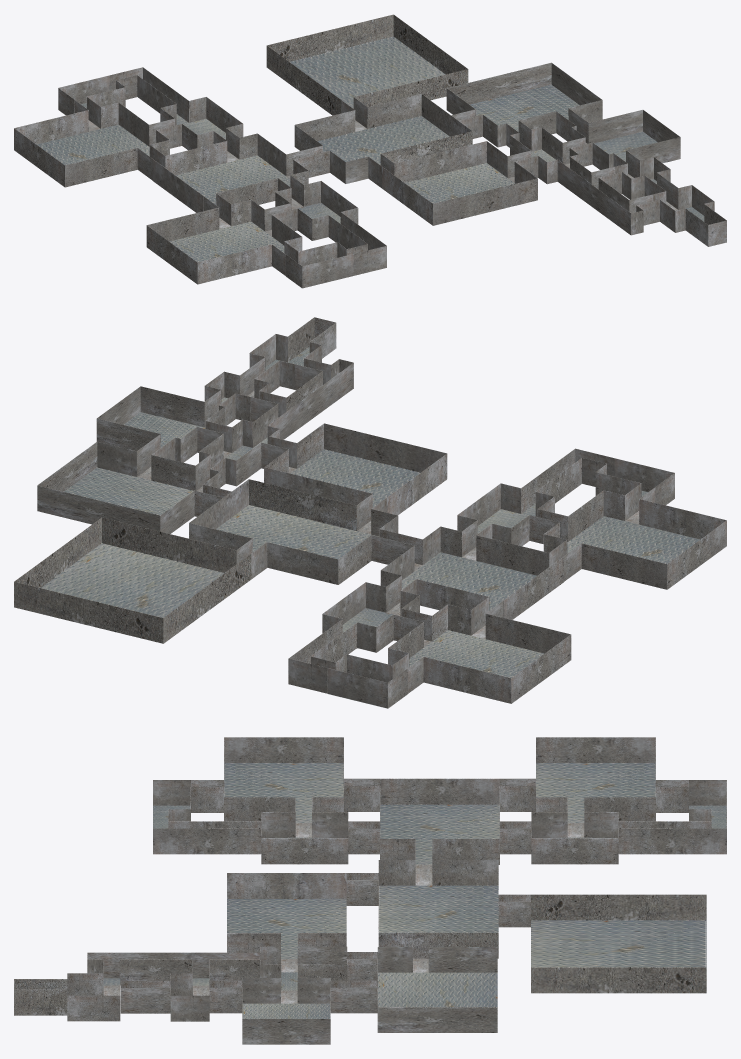
Rendered from level3 (1).fbx.
The picture shows the model from 3 angles, top to bottom: view 1: azimuth 30°, elevation 25°; view 2: azimuth 150°, elevation 25°; view 3: azimuth 270°, elevation 25°; orthographic projection. The views are drawn at different scales.
Parts seen in each view (by area): view 1: Habitación.018, Habitación.016, Habitación.017, Habitación.024, Habitación.001, Habitación.015, Habitación.019, Habitación.013, Habitación.011, Habitación.004, Habitación.021, Habitación.002 (+25 smaller); view 2: Habitación.018, Habitación.016, Habitación.001, Habitación.024, Habitación.017, Habitación.015, Habitación.019, Habitación.013, Habitación.021, Habitación.011, Habitación.004, Habitación.023 (+27 smaller); view 3: Habitación.018, Habitación.016, Habitación.015, Habitación.019, Habitación.024, Habitación.001, Habitación.017, Habitación.013, Habitación.011, Habitación.021, Habitación.004, Habitación.022 (+19 smaller).
Part boxes in pixels (x1,y1,x2,y2): Habitación.018: [266, 14, 468, 115]; Habitación.016: [294, 94, 472, 183]; Habitación.017: [382, 141, 537, 225]; Habitación.024: [14, 102, 169, 187]; Habitación.001: [146, 199, 302, 284]; Habitación.015: [446, 62, 602, 147]; Habitación.019: [152, 133, 308, 212]; Habitación.013: [571, 109, 680, 169]; Habitación.011: [557, 157, 643, 235]; Habitación.004: [275, 181, 358, 240]; Habitación.021: [160, 97, 243, 150]; Habitación.002: [286, 242, 353, 288]; Habitación.018: [14, 517, 251, 643]; Habitación.016: [189, 479, 398, 584]; Habitación.001: [543, 490, 726, 589]; Habitación.024: [388, 604, 571, 703]; Habitación.017: [264, 423, 447, 515]; Habitación.015: [37, 441, 220, 533]; Habitación.019: [380, 526, 563, 619]; Habitación.013: [96, 386, 224, 462]; Habitación.021: [322, 582, 419, 652]; Habitación.011: [253, 359, 353, 447]; Habitación.004: [457, 483, 554, 546]; Habitación.023: [327, 654, 406, 708]; Habitación.018: [531, 894, 706, 993]; Habitación.016: [378, 860, 498, 958]; Habitación.015: [377, 947, 497, 1032]; Habitación.019: [380, 778, 499, 864]; Habitación.024: [536, 737, 655, 822]; Habitación.001: [224, 737, 343, 822]; Habitación.017: [227, 873, 346, 958]; Habitación.013: [242, 978, 330, 1044]; Habitación.011: [87, 952, 259, 985]; Habitación.021: [531, 812, 618, 864]; Habitación.004: [261, 812, 348, 864]; Habitación.022: [618, 809, 726, 854].
Size of the model in its own units: 2505 by 107 by 2679.
